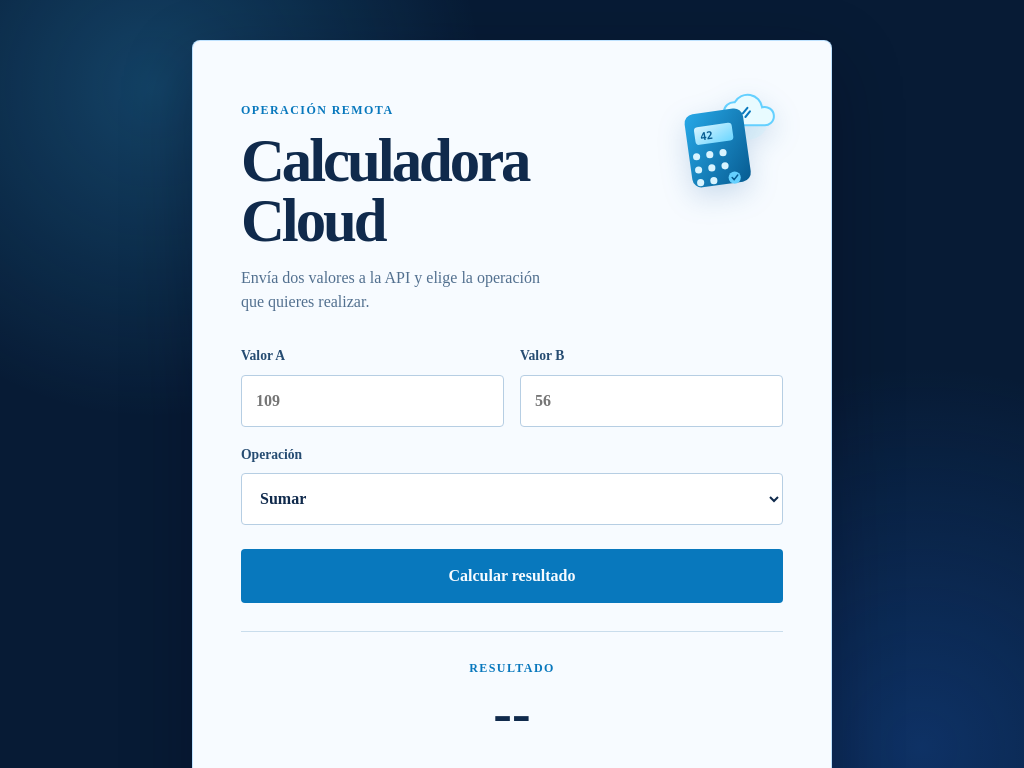
Test: Calculadora Cloud › muestra un mensaje útil si se envía sin valores
The image size is (1024, 768).
Click the button "Calcular resultado" at (512, 576), box [241,549,783,603]
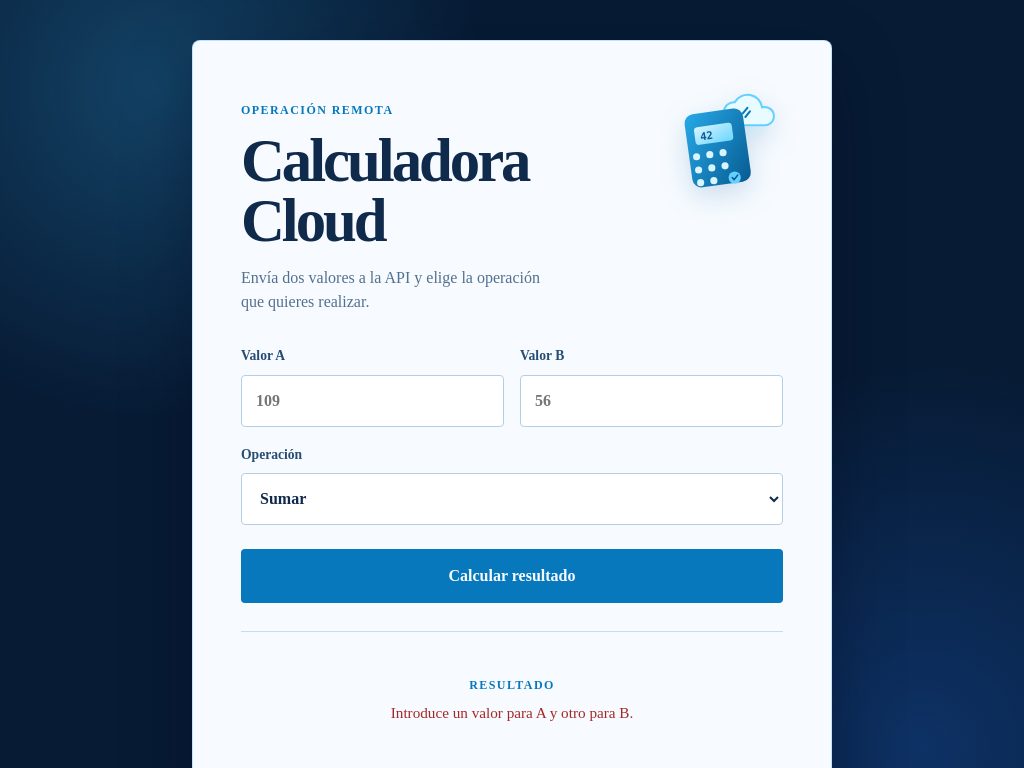
Now the text "Introduce un valor para A y otro para B." is shown, box [391,702,633,725]
